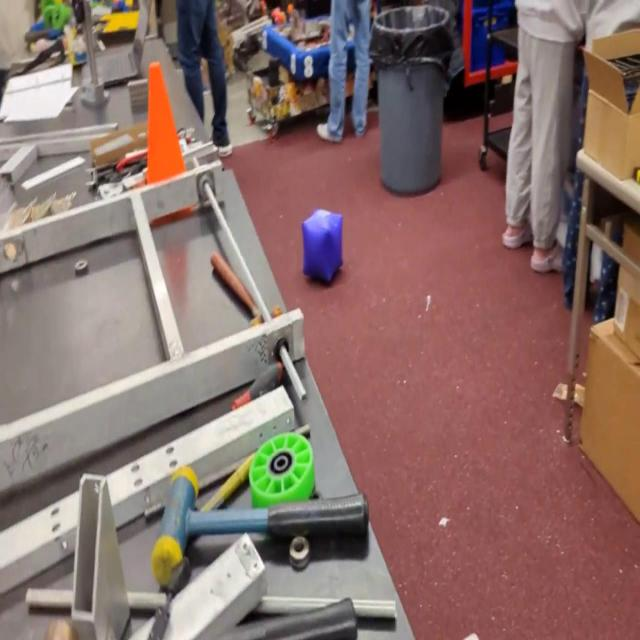frc_cube: (300, 206, 345, 284)
